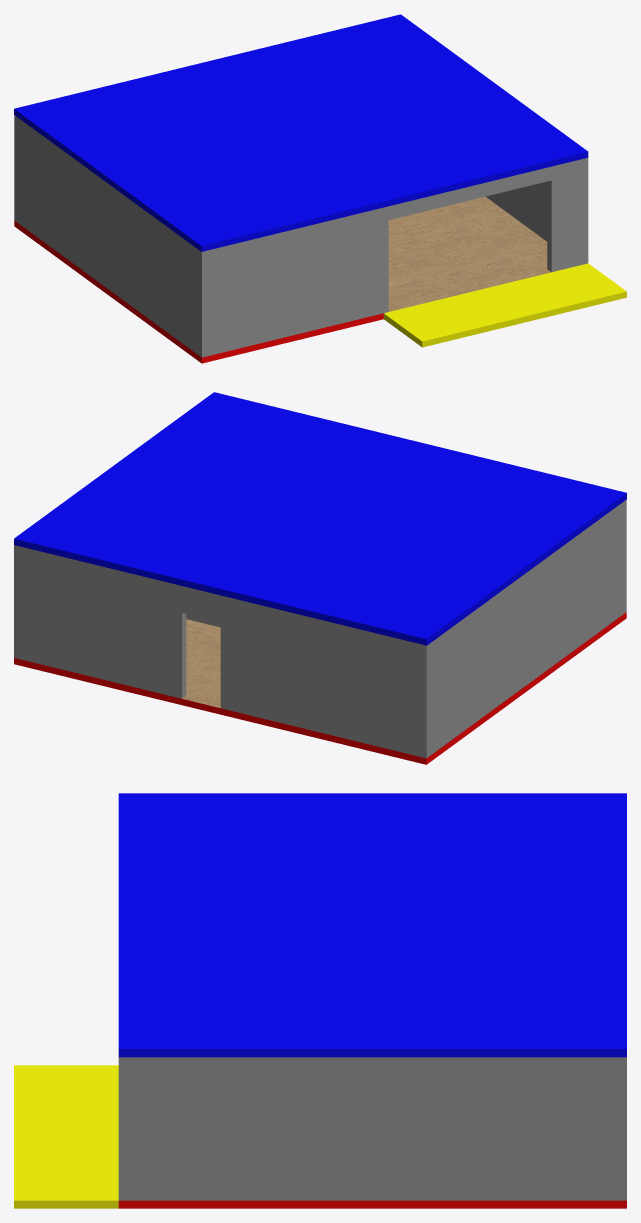
The model's file is wall.fbx.
3 renders of one model, top to bottom at view 1: azimuth 30°, elevation 25°; view 2: azimuth 150°, elevation 25°; view 3: azimuth 270°, elevation 25°, orthographic. The views are drawn at different scales.
Parts seen in each view (by area): view 1: Prime_Ceiling, Prime_Wall, Prime_Base, pasted__pasted__Balcony_Base; view 2: Prime_Ceiling, Prime_Wall, Prime_Base; view 3: Prime_Ceiling, Prime_Wall, pasted__pasted__Balcony_Base, Prime_Base.
Part boxes in pixels (x1,y1,x2,y2): Prime_Ceiling: (14, 14, 588, 251); Prime_Wall: (14, 115, 588, 357); Prime_Base: (14, 196, 550, 363); pasted__pasted__Balcony_Base: (383, 263, 626, 347); Prime_Ceiling: (14, 392, 626, 645); Prime_Wall: (14, 500, 626, 758); Prime_Base: (14, 612, 626, 764); Prime_Ceiling: (118, 793, 626, 1057); Prime_Wall: (118, 1057, 626, 1200); pasted__pasted__Balcony_Base: (14, 1065, 118, 1208); Prime_Base: (118, 1200, 626, 1208).
Size of the model in its own units: 24.01 by 6.98 by 24.31.
Materials: 6 (2 with a texture image).
